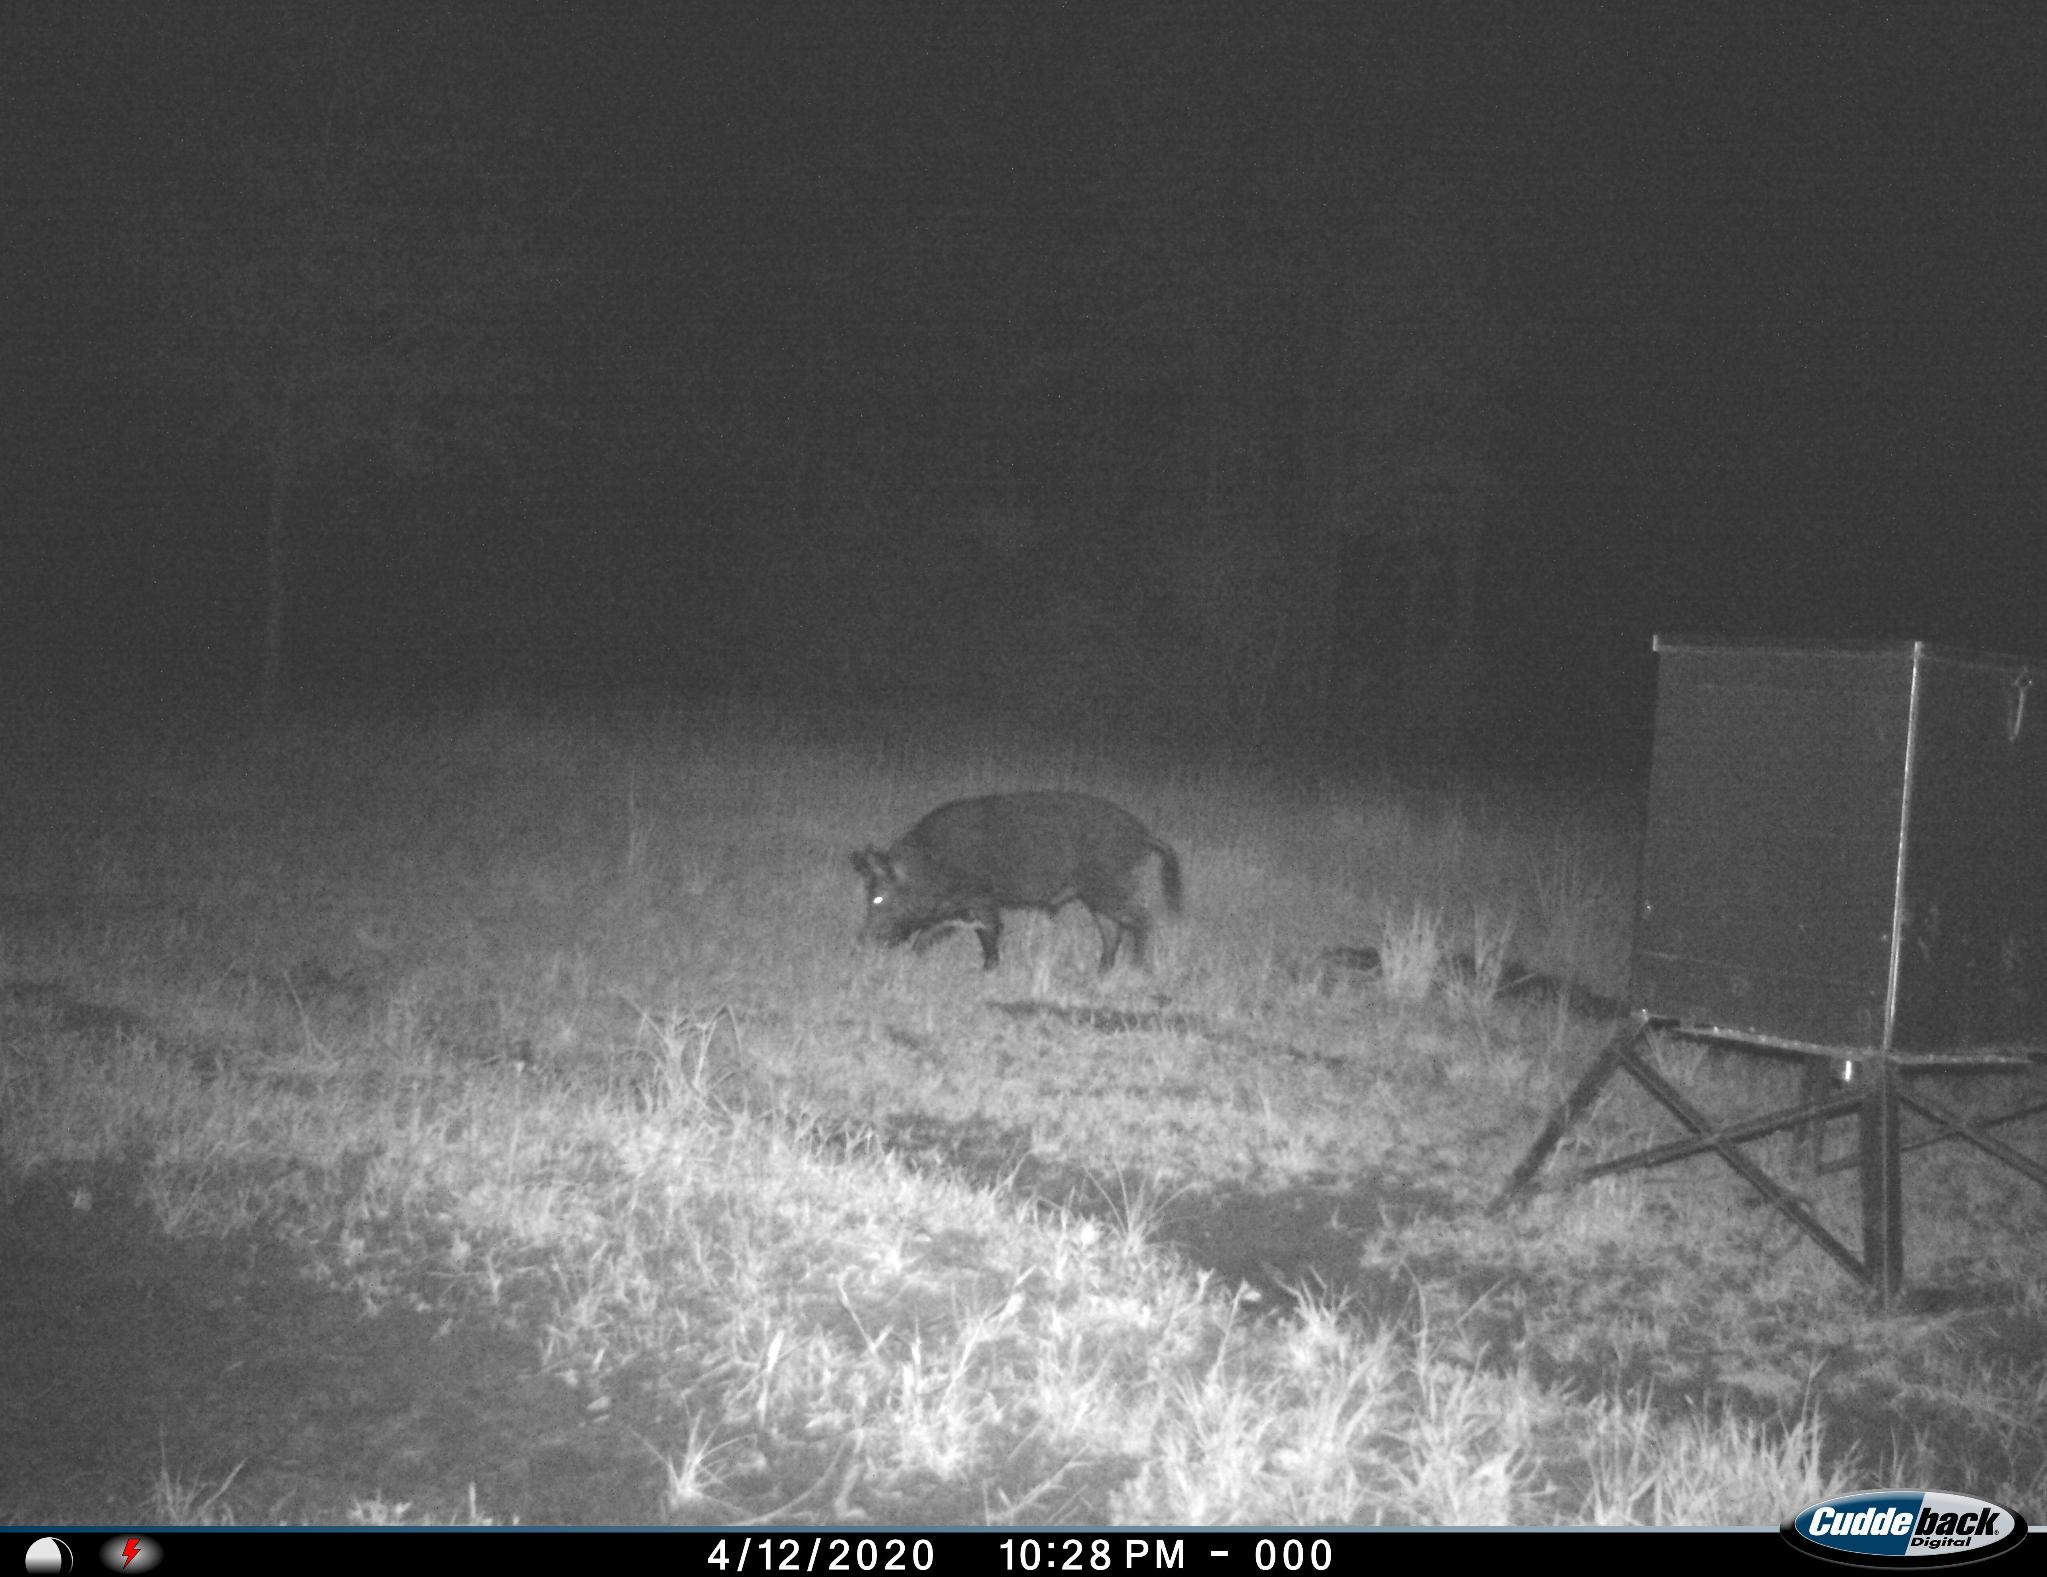Hog: (835, 785, 1204, 987)
